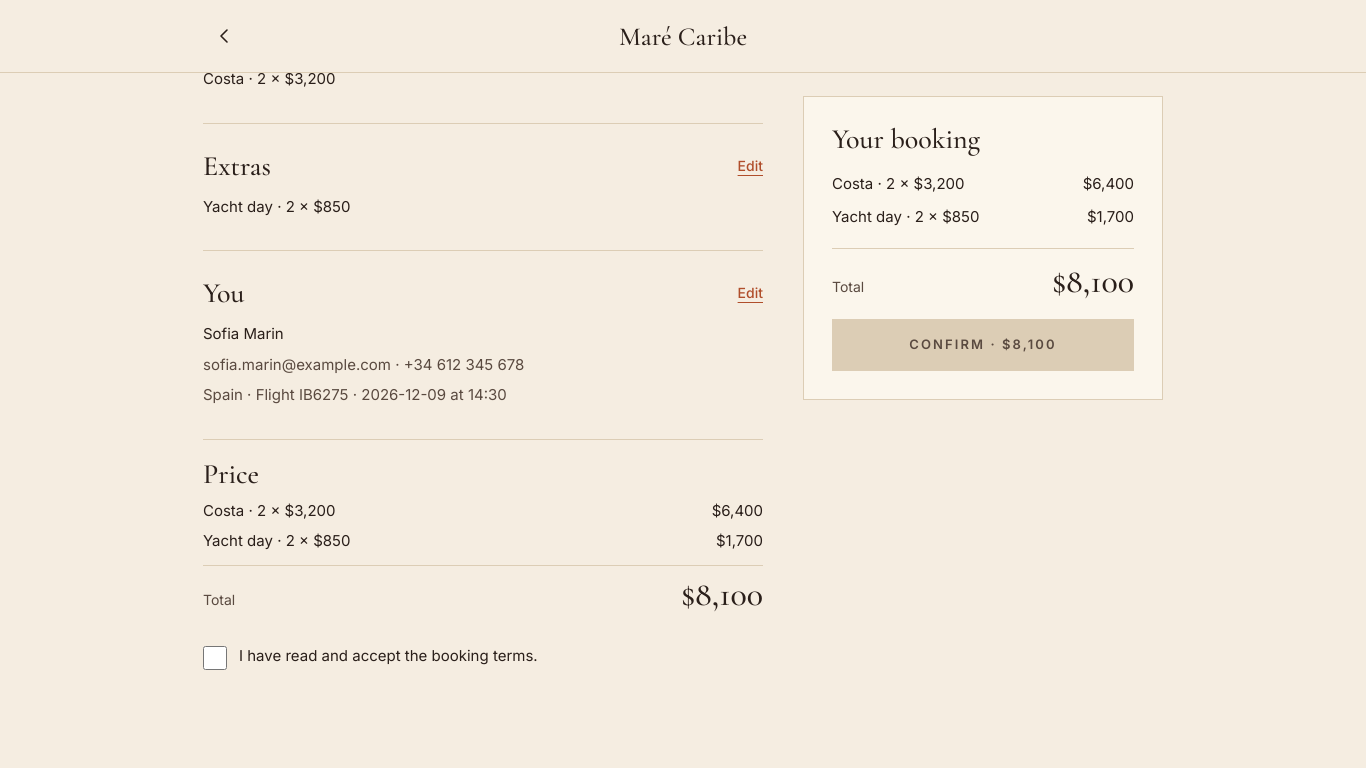
Test: Review (step 4) › keeps Confirm disabled until the terms are accepted
(page scrolled)
Expected: the button "Confirm · $8,100" is disabled, [832, 319, 1134, 371]
Click the checkbox.
click(215, 658)  # box [203, 646, 227, 670]
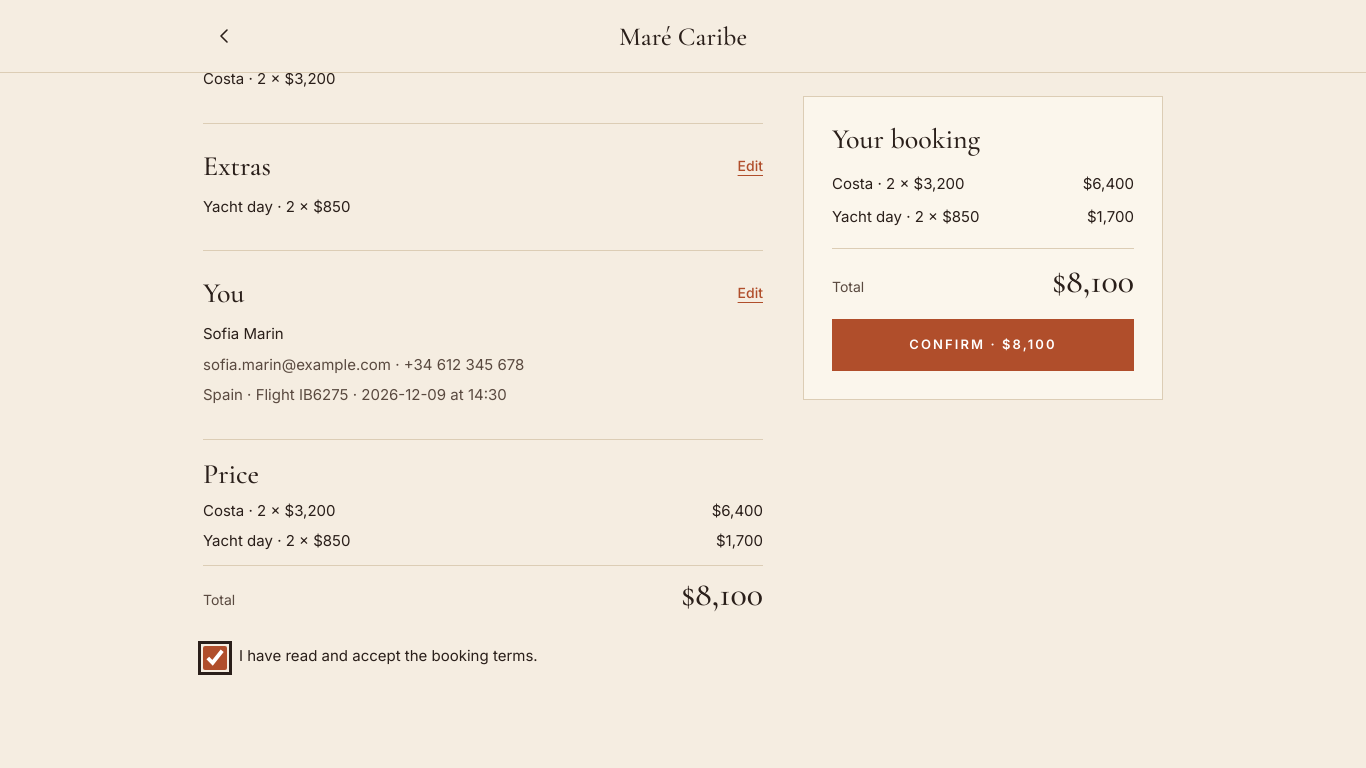
Expected: the button "Confirm · $8,100" is enabled, [832, 319, 1134, 371]
